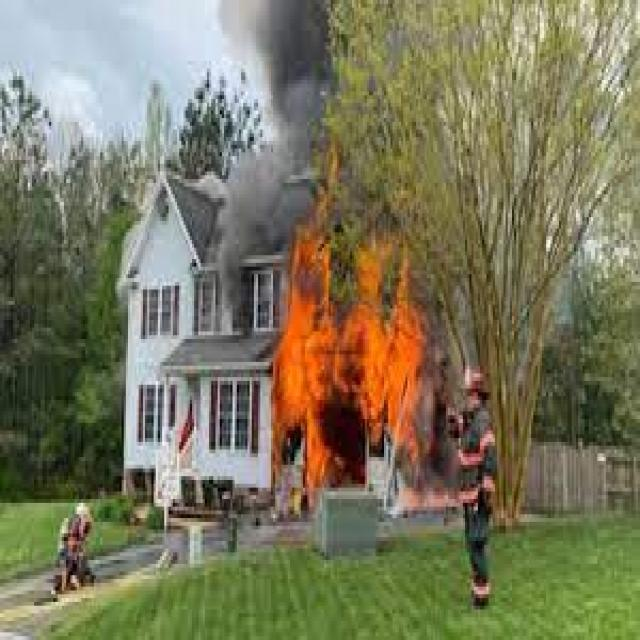Fire: (281, 276, 435, 473)
Smoke: (234, 0, 323, 260)
